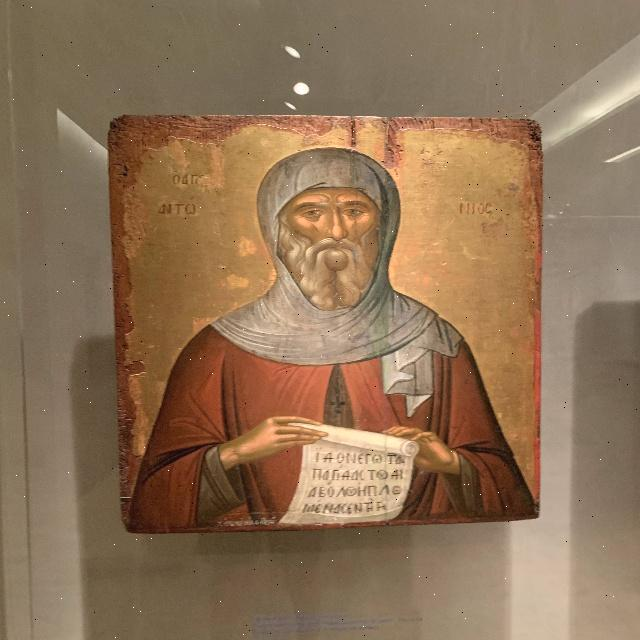saint: (114, 114, 541, 521)
scroll: (283, 414, 415, 524)
